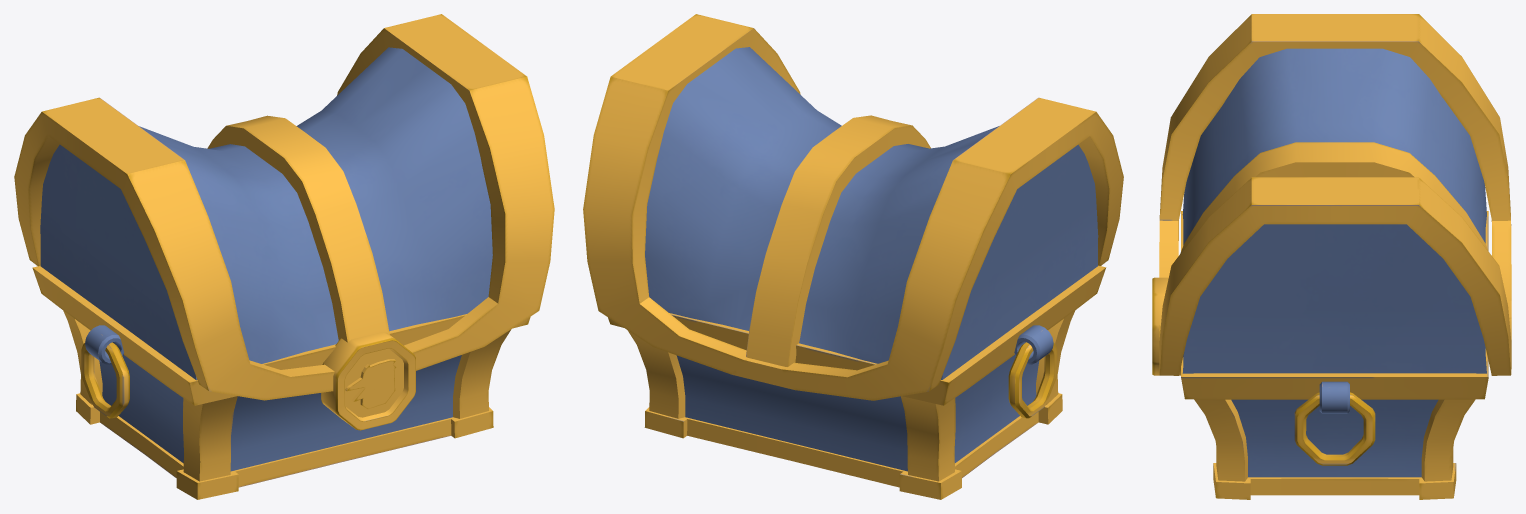
The model's file is Chest.fbx.
The picture shows the model from 3 angles, left to right: view 1: azimuth 30°, elevation 25°; view 2: azimuth 150°, elevation 25°; view 3: azimuth 270°, elevation 25°; orthographic projection. The views are drawn at different scales.
Parts seen in each view (by area): view 1: Cube.006, Cube.005; view 2: Cube.006, Cube.005; view 3: Cube.006, Cube.005.
Part boxes in pixels (x1=…): Cube.006: x1=14, y1=14, x2=554, y2=430; Cube.005: x1=32, y1=265, x2=530, y2=499; Cube.006: x1=583, y1=14, x2=1123, y2=400; Cube.005: x1=608, y1=265, x2=1106, y2=499; Cube.006: x1=1152, y1=14, x2=1511, y2=375; Cube.005: x1=1181, y1=211, x2=1488, y2=499.
Size of the model in its own units: 359 by 279 by 286.
Materials: 1 (1 with a texture image).
